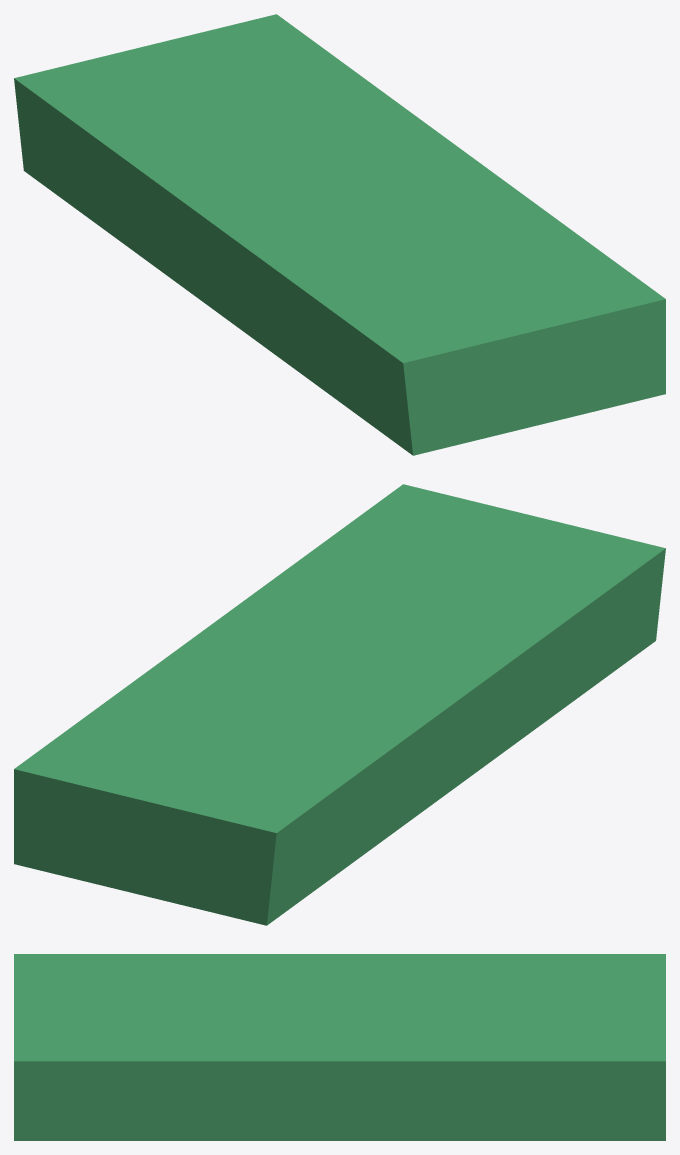
The picture shows the model from 3 angles, top to bottom: view 1: azimuth 30°, elevation 25°; view 2: azimuth 150°, elevation 25°; view 3: azimuth 270°, elevation 25°; orthographic projection. The views are drawn at different scales.
Parts seen in each view (by area): view 1: geometry_3; view 2: geometry_3; view 3: geometry_3.
Part boxes in pixels (bbox=[...]): geometry_3: bbox=[14, 14, 665, 455]; geometry_3: bbox=[14, 484, 665, 925]; geometry_3: bbox=[14, 954, 665, 1140].
Bounding box in the file's own units: 0.0156 × 0.00539 × 0.04.
